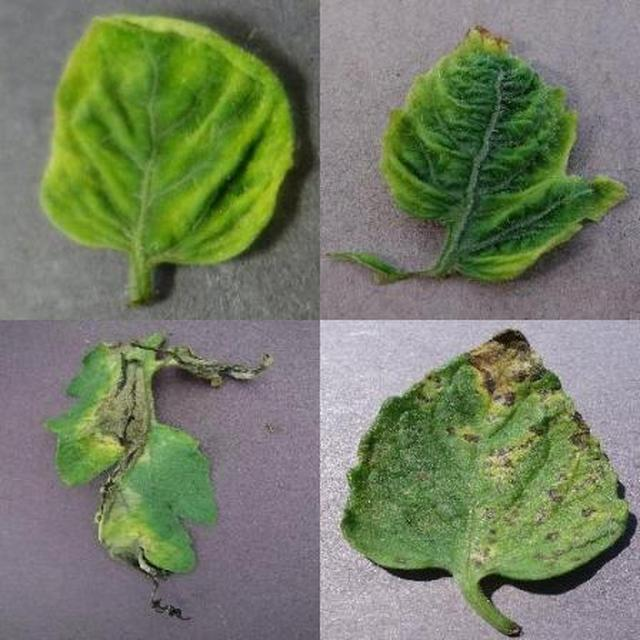Yellow Leaf Curl Virus: (227, 199, 640, 640)
